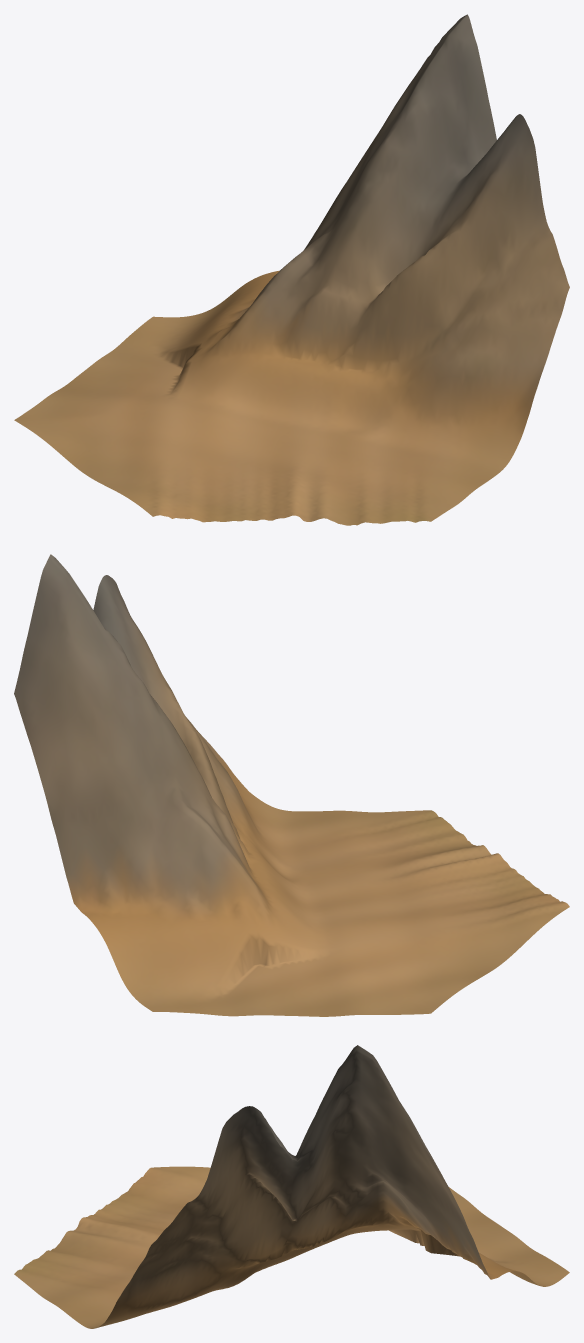
The picture shows the model from 3 angles, top to bottom: view 1: azimuth 30°, elevation 25°; view 2: azimuth 150°, elevation 25°; view 3: azimuth 270°, elevation 25°; orthographic projection.
Parts seen in each view (by area): view 1: terrain; view 2: terrain; view 3: terrain.
Part boxes in pixels (x1,y1,x2,y2): terrain: (14,14,569,525); terrain: (14,554,569,1016); terrain: (14,1045,569,1328).
Size of the model in its own units: 4330 by 3322 by 5000.
